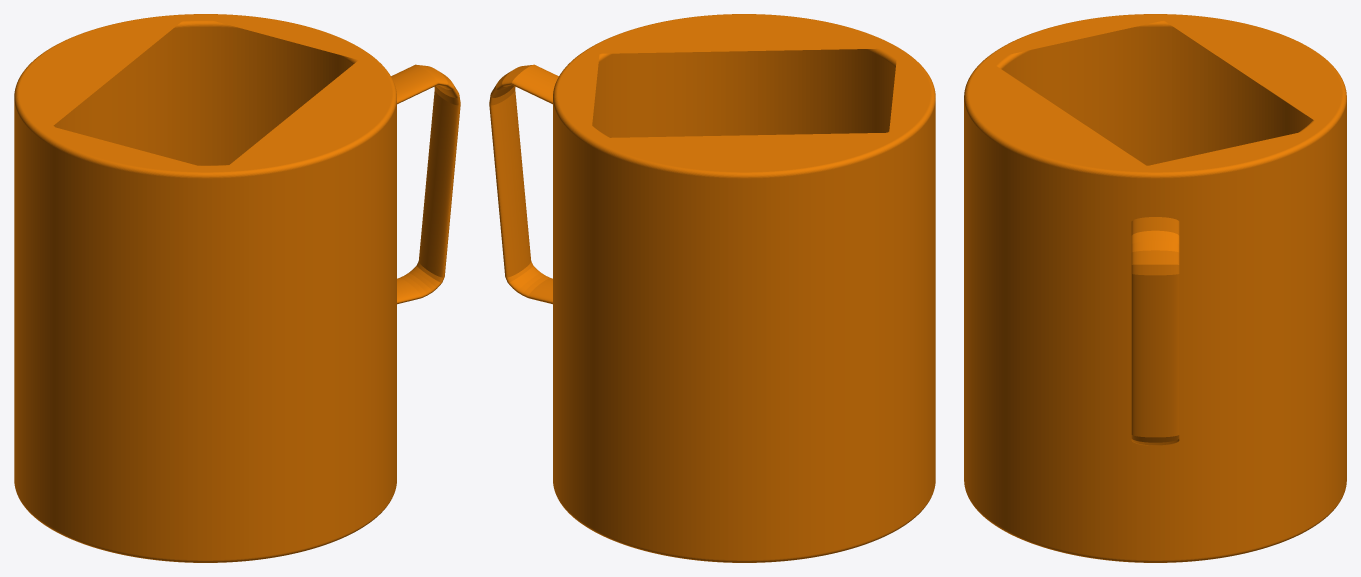
The model's file is orangemug.fbx.
The picture shows the model from 3 angles, left to right: view 1: azimuth 30°, elevation 25°; view 2: azimuth 150°, elevation 25°; view 3: azimuth 270°, elevation 25°; orthographic projection.
Visible parts, largest first — view 1: Cylinder.002, Cylinder.001; view 2: Cylinder.002, Cylinder.001; view 3: Cylinder.002, Cylinder.001.
Part boxes in pixels (bbox=[...]): Cylinder.002: bbox=[14, 14, 396, 562]; Cylinder.001: bbox=[391, 64, 460, 304]; Cylinder.002: bbox=[553, 14, 935, 562]; Cylinder.001: bbox=[489, 64, 558, 304]; Cylinder.002: bbox=[964, 14, 1346, 562]; Cylinder.001: bbox=[1131, 217, 1179, 445].
Size of the model in its own units: 9.97 by 9 by 8.
